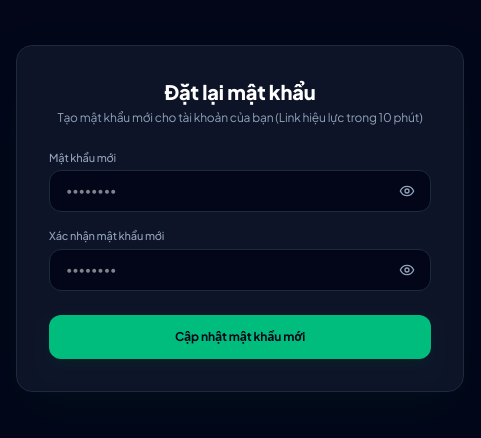
Test: ResetPasswordPage › validates password match before submission
Type "password123" into the 1st password field with placeholder "••••••••".
click(240, 191); type("password123")  # box [49,170,431,212]
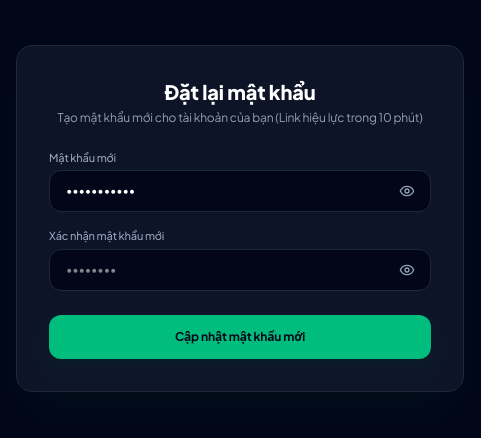
Type "password456" into the password field with placeholder "••••••••".
click(240, 270); type("password456")  # box [49,248,431,290]
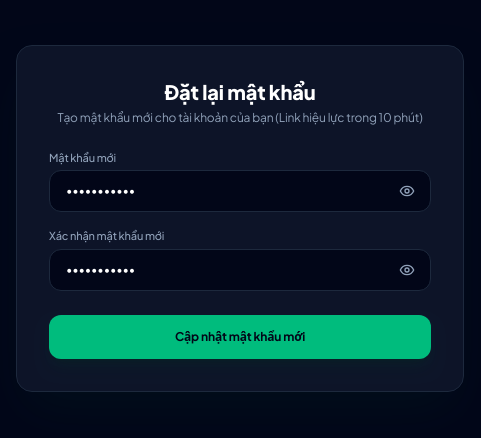
Click the button "Cập nhật mật khẩu mới".
click(240, 336)  # box [49,314,431,358]
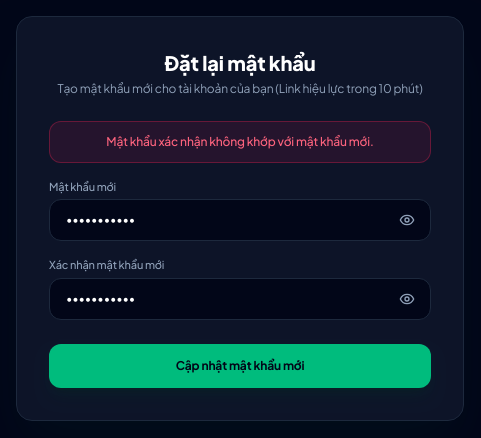
Now the text "Mật khẩu xác nhận không khớp với mật khẩu mới." is shown, box [49,120,431,162]
